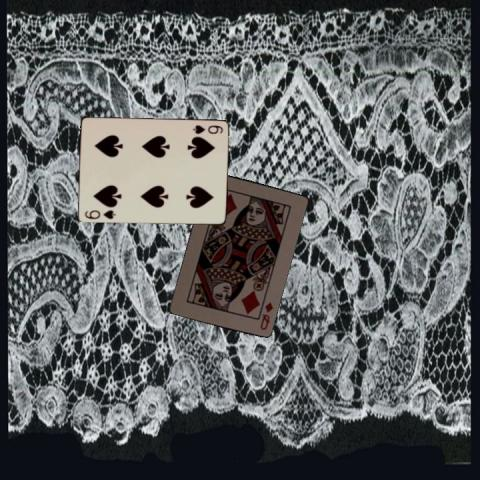6s: (81, 207, 117, 221), (190, 122, 224, 135)
Qd: (257, 299, 275, 331)
